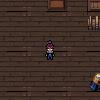Hide: (84, 16, 100, 31)
Victim: (44, 37, 56, 61)
Win: (84, 68, 100, 91)
